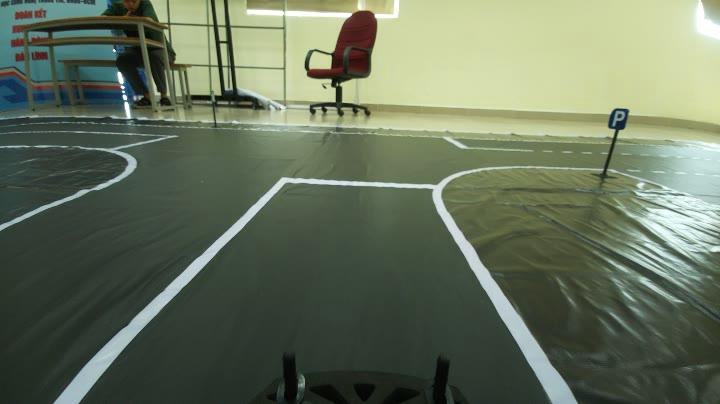parking: (606, 106, 630, 132)
